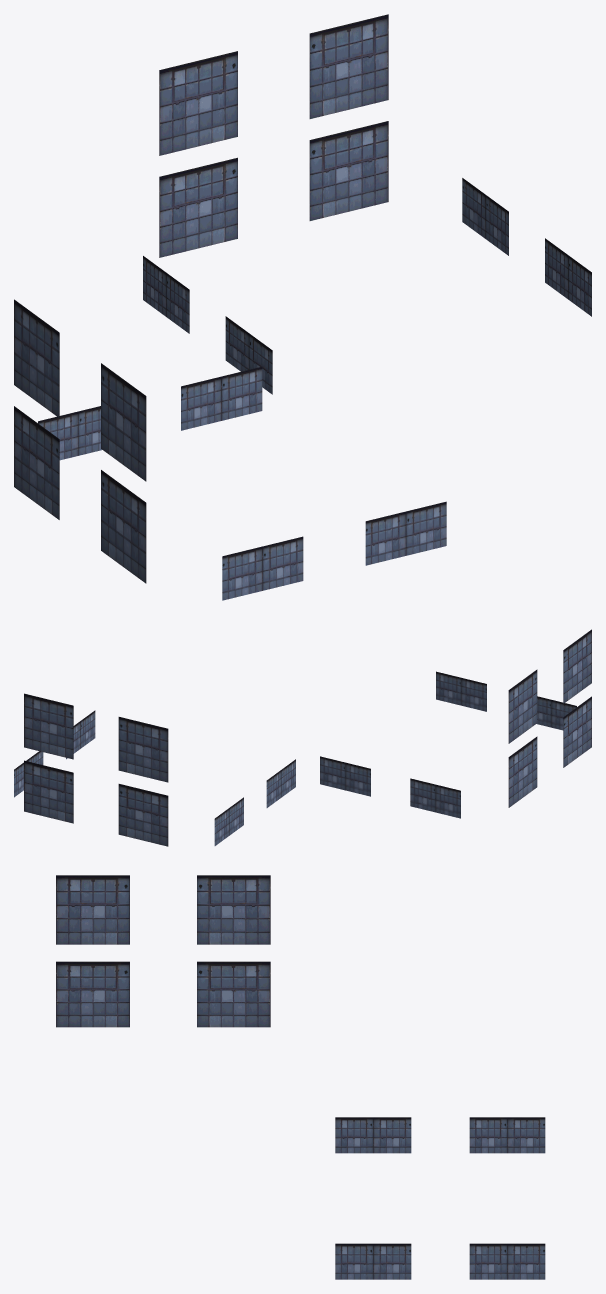
Rendered from warehousebrickc_id_4_windowdarka_dm_0_lev1.glb.
3 views of the same model, one above another, from view 1: azimuth 30°, elevation 25°; view 2: azimuth 150°, elevation 25°; view 3: azimuth 270°, elevation 25° (orthographic). The views are drawn at different scales.
Parts seen in each view (by area): view 1: warehousebrickc_id_4_windowdarka_dm_0_lev1; view 2: warehousebrickc_id_4_windowdarka_dm_0_lev1; view 3: warehousebrickc_id_4_windowdarka_dm_0_lev1.
Boxes of the visible parts, x1=… form: warehousebrickc_id_4_windowdarka_dm_0_lev1: x1=14, y1=14, x2=591, y2=600; warehousebrickc_id_4_windowdarka_dm_0_lev1: x1=14, y1=629, x2=591, y2=846; warehousebrickc_id_4_windowdarka_dm_0_lev1: x1=56, y1=875, x2=545, y2=1279.
Size of the model in its own units: 11.75 by 3.59 by 11.75.
Materials: 1 (1 with a texture image).
